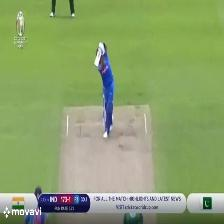batsman: (90, 39, 117, 141)
